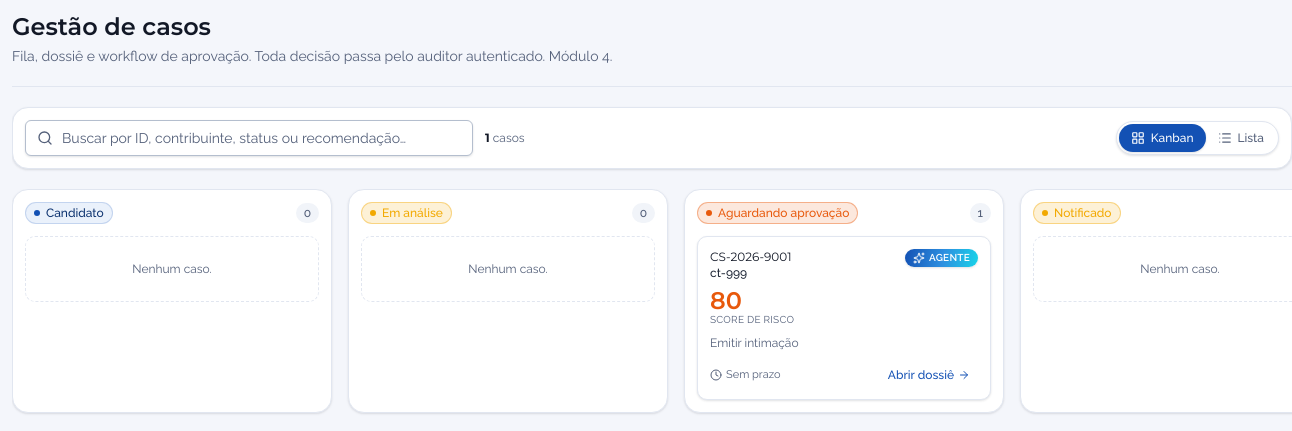
Scenario: CasesPage — smoke T13 › filtro global reduz o dataset em ambas as views
Expected: the text "CS-2026-9001" is shown, [710, 249, 792, 265]
Type "nao-existe" into the field with placeholder "Buscar por ID, contribuinte, status ou recomendação…" at (249, 138), box [25, 120, 473, 156]
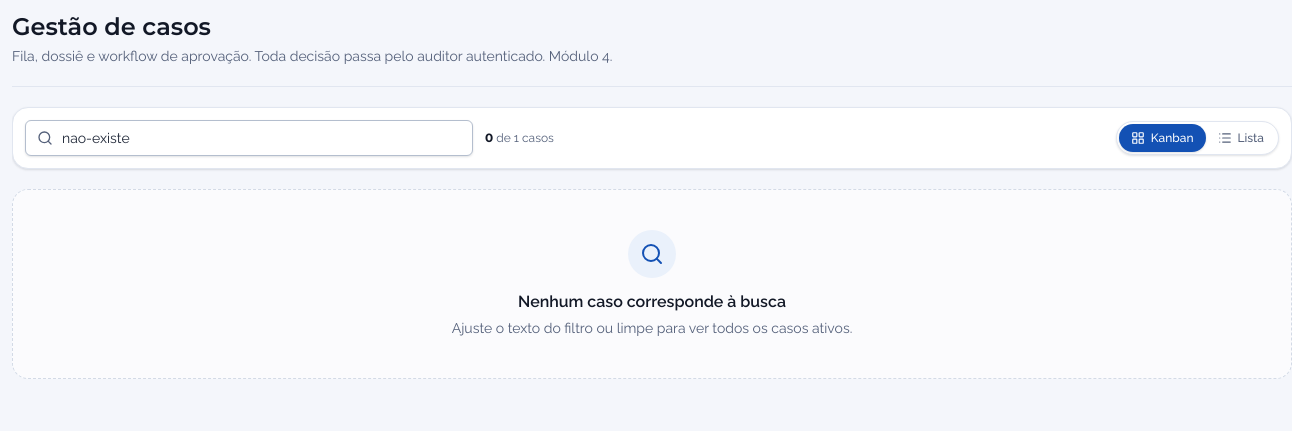
Now the text "CS-2026-9001" is gone
